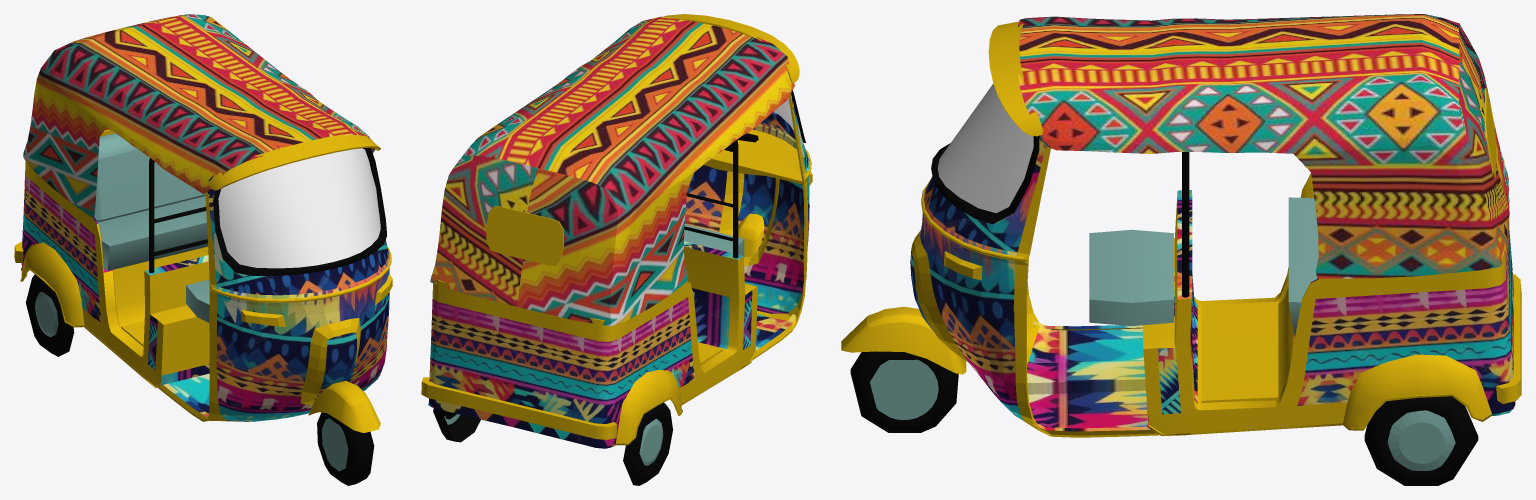
Rendered from auto riksha.fbx.
3 renders of one model, left to right at view 1: azimuth 30°, elevation 25°; view 2: azimuth 150°, elevation 25°; view 3: azimuth 270°, elevation 25°, orthographic. The views are drawn at different scales.
Parts seen in each view (by area): view 1: polySurface85, polySurface69, polySurface71, polySurface113, polySurface86, polySurface80, pTorus4, polySurface70, polySurface73, polySurface72, polySurface109, polySurface87 (+1 smaller); view 2: polySurface85, polySurface71, polySurface69, polySurface89, pTorus4, polySurface70, polySurface109, polySurface87, polySurface72, polySurface81; view 3: polySurface85, polySurface71, polySurface69, pTorus4, polySurface87, polySurface113, polySurface109, polySurface72, polySurface70, polySurface80, polySurface73, polySurface81.
Boxes of the visible parts, left/top/right/bottom form: polySurface85: left=23, top=14, right=375, bottom=218; polySurface69: left=157, top=173, right=392, bottom=421; polySurface71: left=14, top=129, right=209, bottom=387; polySurface113: left=218, top=148, right=380, bottom=268; polySurface86: left=94, top=133, right=205, bottom=222; polySurface80: left=97, top=196, right=207, bottom=270; pTorus4: left=25, top=274, right=374, bottom=485; polySurface70: left=209, top=134, right=380, bottom=190; polySurface73: left=213, top=148, right=387, bottom=275; polySurface72: left=308, top=380, right=380, bottom=432; polySurface109: left=35, top=291, right=348, bottom=471; polySurface87: left=186, top=279, right=209, bottom=322; polySurface85: left=430, top=16, right=795, bottom=326; polySurface71: left=421, top=241, right=757, bottom=448; polySurface69: left=684, top=72, right=812, bottom=359; polySurface89: left=486, top=206, right=563, bottom=265; pTorus4: left=433, top=402, right=672, bottom=485; polySurface70: left=664, top=14, right=799, bottom=82; polySurface109: left=444, top=414, right=663, bottom=465; polySurface87: left=684, top=224, right=744, bottom=257; polySurface72: left=738, top=213, right=764, bottom=256; polySurface81: left=732, top=140, right=738, bottom=258; polySurface85: left=1018, top=14, right=1509, bottom=278; polySurface71: left=1143, top=158, right=1521, bottom=436; polySurface69: left=910, top=124, right=1159, bottom=437; pTorus4: left=850, top=351, right=1478, bottom=485; polySurface87: left=1089, top=229, right=1173, bottom=325; polySurface113: left=937, top=84, right=1033, bottom=218; polySurface109: left=870, top=359, right=1455, bottom=470; polySurface72: left=841, top=306, right=966, bottom=374; polySurface70: left=988, top=21, right=1043, bottom=136; polySurface80: left=1288, top=197, right=1318, bottom=335; polySurface73: left=931, top=135, right=1039, bottom=224; polySurface81: left=1182, top=152, right=1189, bottom=297.
Bounding box in the file's own units: 28.5 × 41.33 × 66.06.
7 materials, 2 textured.
